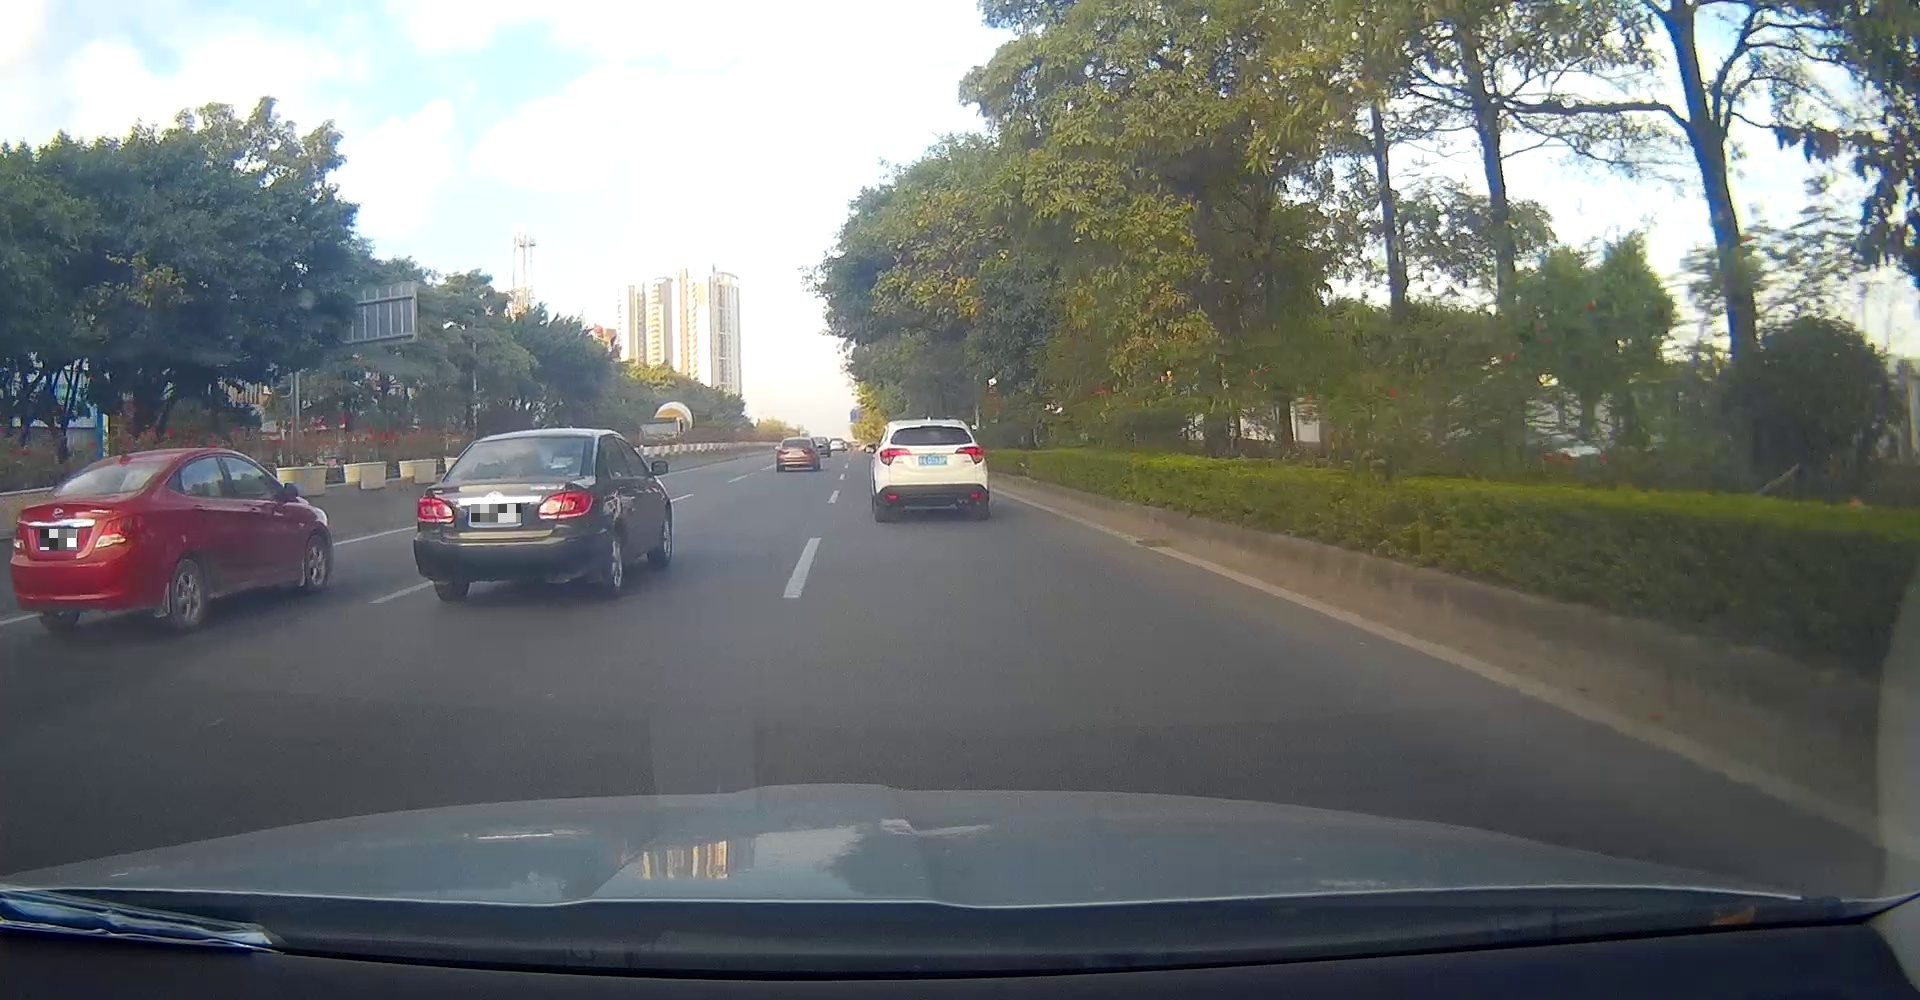L_light: (417, 497, 455, 524), (879, 448, 912, 466), (11, 525, 27, 556), (778, 451, 789, 456)
R_light: (536, 491, 592, 518), (93, 514, 133, 549), (954, 445, 984, 464), (803, 449, 813, 454)
T_light: (512, 438, 538, 442), (104, 463, 124, 467), (924, 428, 938, 430), (792, 440, 799, 442)
day-no: (413, 429, 597, 602), (9, 451, 171, 638), (876, 420, 987, 522), (776, 438, 815, 471)
plate_1: (41, 529, 77, 549)
plate_2: (471, 504, 521, 523)
